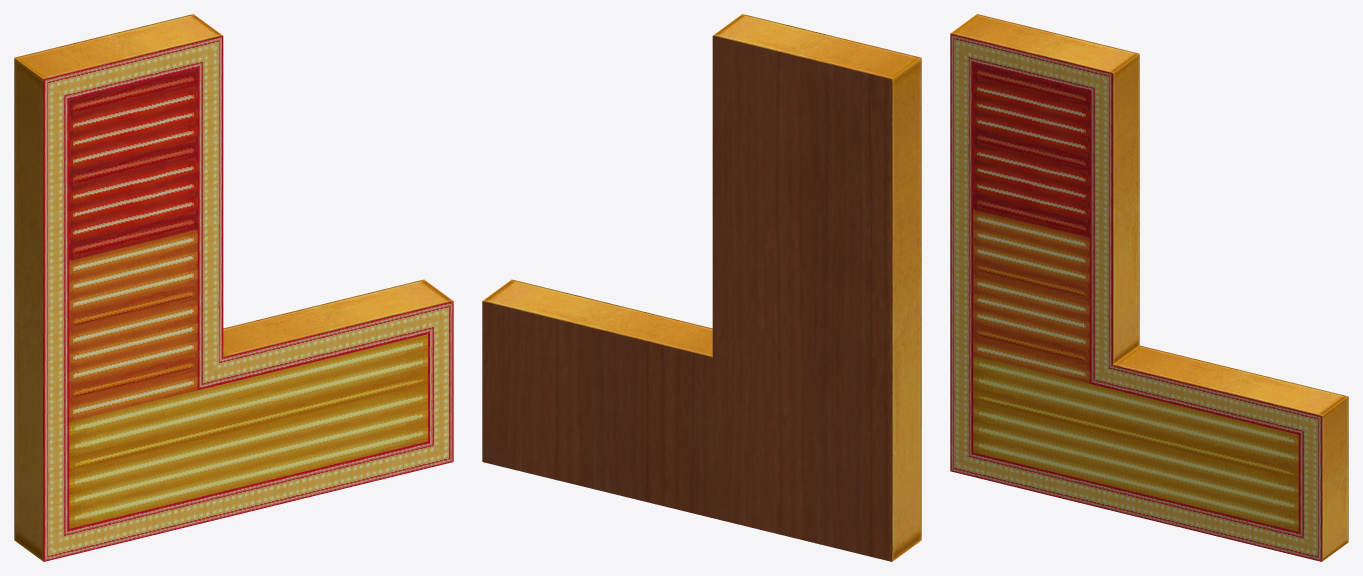
Rendered from letter_L2.obj.
The picture shows the model from 3 angles, left to right: view 1: azimuth 30°, elevation 25°; view 2: azimuth 150°, elevation 25°; view 3: azimuth 330°, elevation 25°; orthographic projection. The views are drawn at different scales.
Visible parts, largest first — view 1: Object_1; view 2: Object_1; view 3: Object_1.
Part boxes in pixels (x1,y1,x2,y2): Object_1: (14, 14, 453, 561); Object_1: (482, 14, 921, 561); Object_1: (950, 14, 1348, 561).
Bounding box in the file's own units: 80 × 90 × 10.
